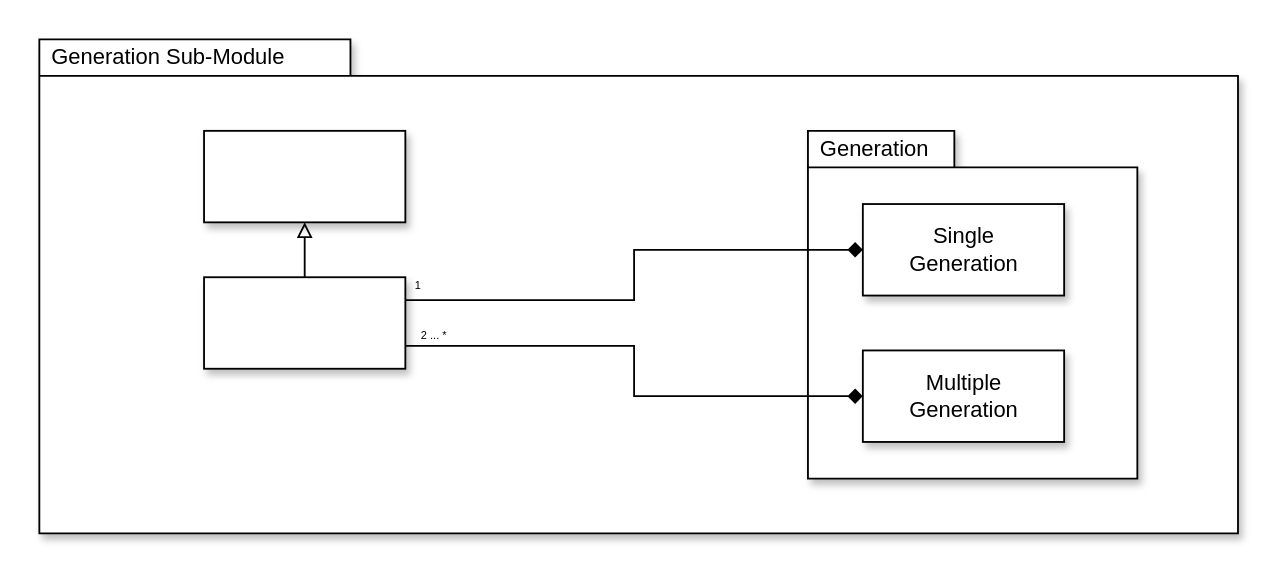
Image size: 1281x578. Some labels were removed from this diagram. Here are the shapes that lost their labels. From the top down, the centre of each, then its label:
At point (305, 178): "FactorOracle".
At point (305, 325): "VMO".
